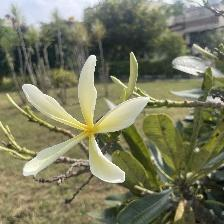champaka: (18, 56, 153, 188)
